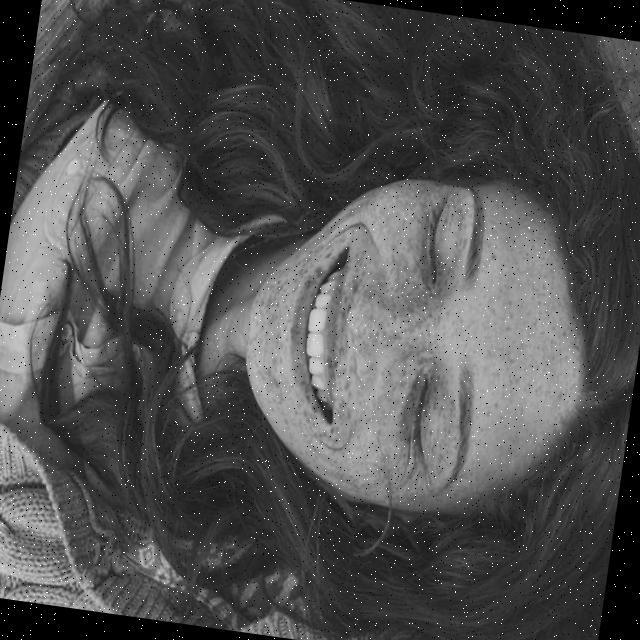Happiness: (220, 146, 620, 537)
